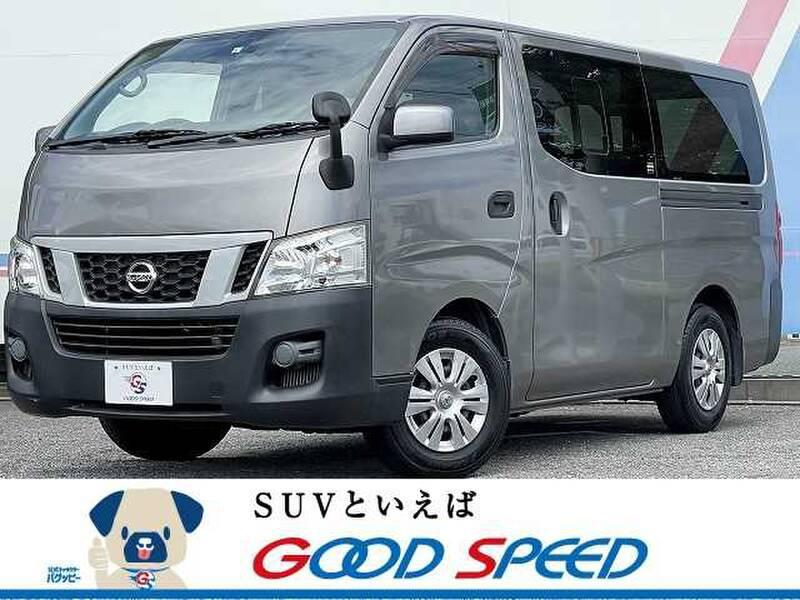van: (4, 13, 786, 472)
